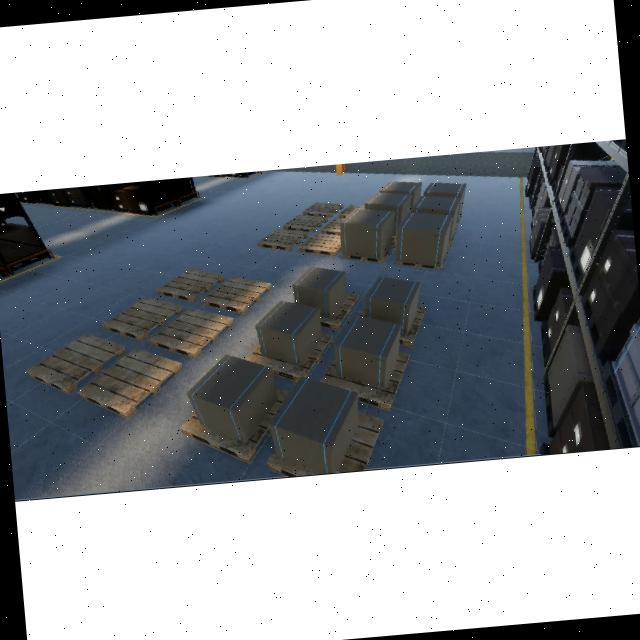wooden_pallet: (25, 333, 126, 395), (148, 307, 234, 359), (102, 296, 183, 340), (200, 277, 271, 313), (155, 268, 224, 302)
